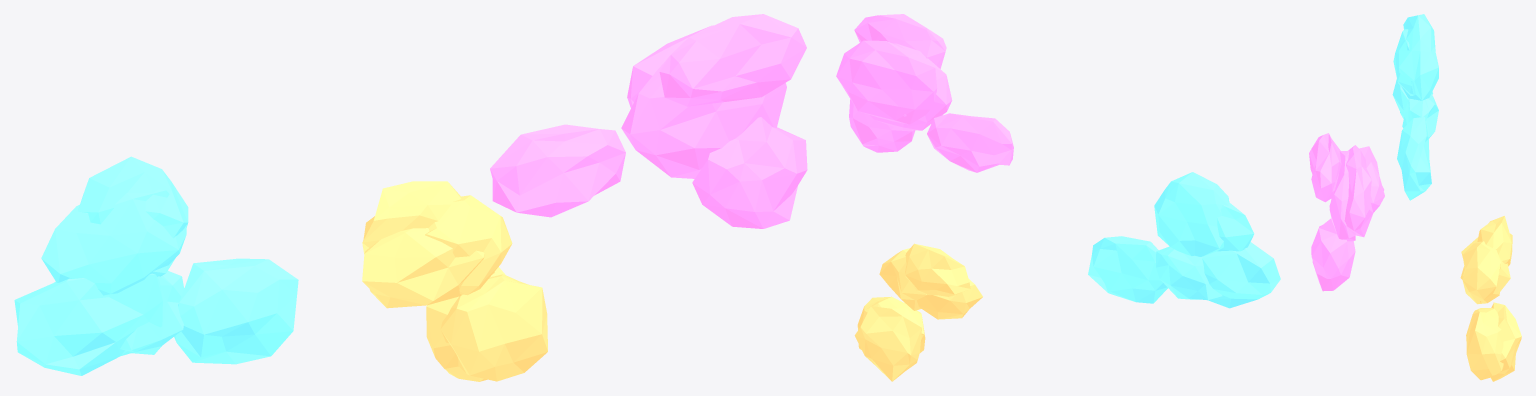
File: ion_clouds.glb
The picture shows the model from 3 angles, left to right: view 1: azimuth 30°, elevation 25°; view 2: azimuth 150°, elevation 25°; view 3: azimuth 270°, elevation 25°; orthographic projection. The views are drawn at different scales.
Visible parts, largest first — view 1: IonCloud1, IonCloud0, IonCloud2; view 2: IonCloud0, IonCloud1, IonCloud2; view 3: IonCloud1, IonCloud2, IonCloud0.
Boxes of the visible parts, x1,y1,x2,y2 form: IonCloud1: [490, 14, 807, 228]; IonCloud0: [14, 156, 298, 375]; IonCloud2: [362, 181, 547, 381]; IonCloud0: [1088, 172, 1280, 308]; IonCloud1: [836, 14, 1013, 172]; IonCloud2: [854, 243, 982, 381]; IonCloud1: [1309, 133, 1384, 291]; IonCloud2: [1460, 216, 1521, 381]; IonCloud0: [1392, 14, 1438, 200].
Bounding box in the file's own units: 59.97 × 33.94 × 23.88.
